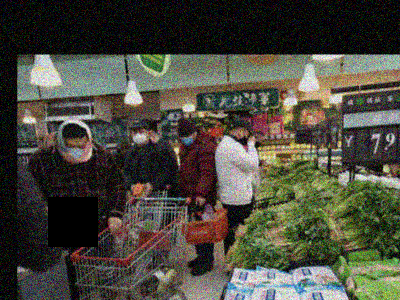with_mask: (62, 140, 89, 163), (132, 128, 147, 146), (178, 133, 194, 147), (239, 132, 250, 146), (255, 137, 264, 149)
